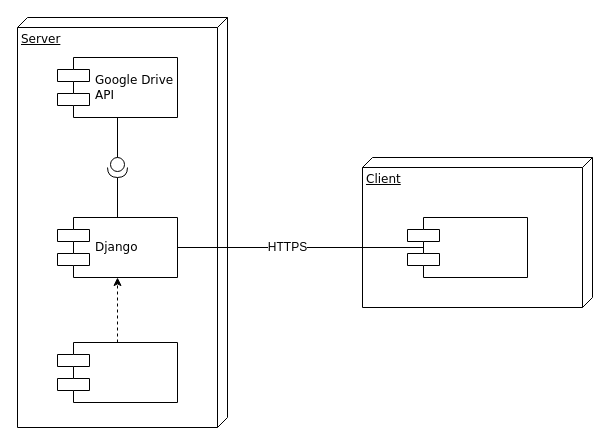
This 610x445 diagram has some shape labels left out. Each missing label, with the centre of its shape:
"React" goes at point (467, 247).
"SQLite DB" goes at point (117, 372).
